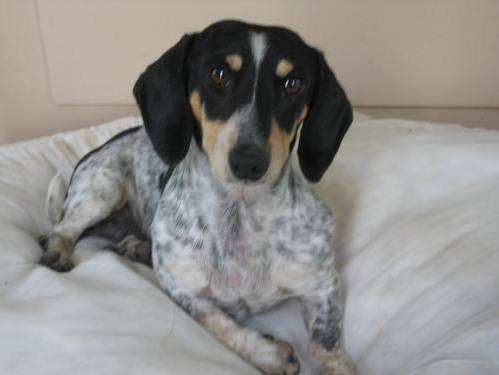dog: (152, 20, 353, 374)
